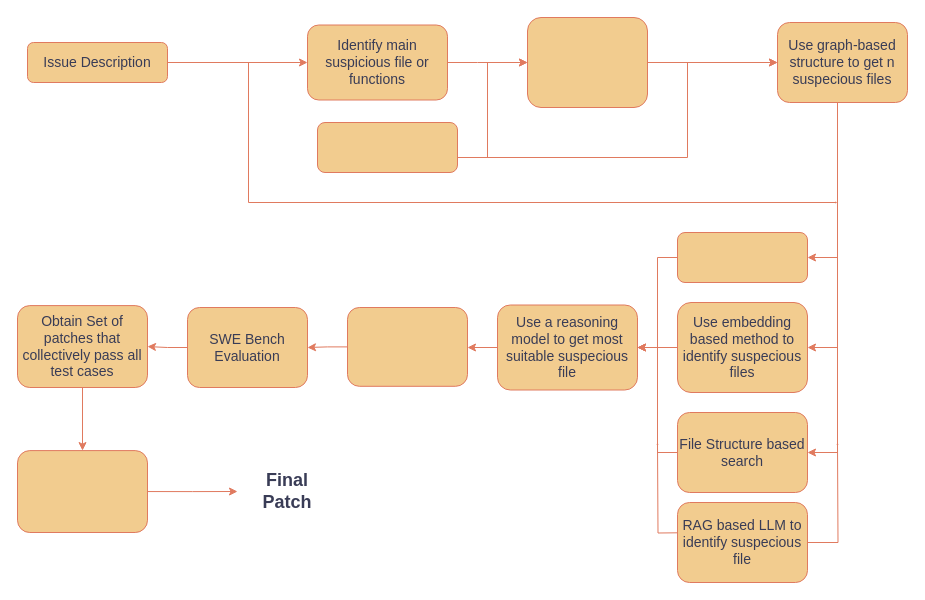
Image size: 925x600. Some labels were removed from this diagram. The shapes that lost their labels are listed below. From the top down, each one's centre as x and y in pixels, then its label:
At [587,62]: "Convert class names, function names to relevent file names".
At [387,147]: "Code Base (Repository)".
At [742,257]: "Use LLM to identify suspecious files".
At [407,346]: "Multi LLM patch generation".
At [82,491]: "Iterative Reasoning & Refinment".
